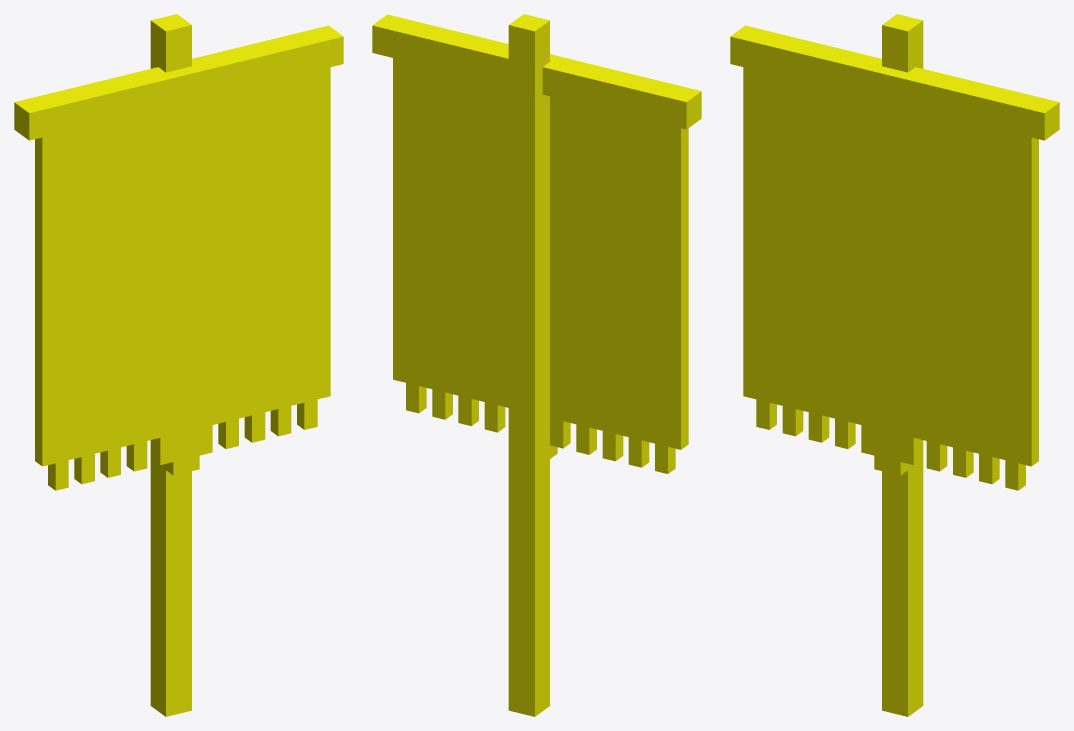
File: voxel-rangers-banner.glb
3 renders of one model, left to right at view 1: azimuth 30°, elevation 25°; view 2: azimuth 150°, elevation 25°; view 3: azimuth 330°, elevation 25°, orthographic.
Visible parts, largest first — view 1: ObjObject.004; view 2: ObjObject.004; view 3: ObjObject.004.
Boxes of the visible parts, box(x1,y1,x2,y2) form: ObjObject.004: box(14, 14, 343, 716); ObjObject.004: box(372, 14, 701, 716); ObjObject.004: box(730, 14, 1059, 716).
Size of the model in its own units: 2.4 by 5 by 0.2997.
